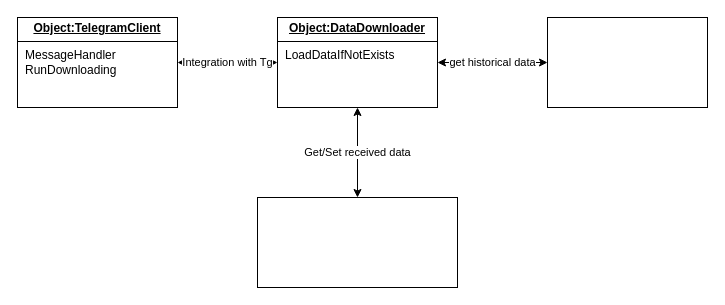
This 725x305 diagram has some shape labels left out. Here are the shapes that lost their labels. From the top down, the box of each, then its label:
(546, 16, 708, 108): Object:ByBitClient GetKline
(256, 196, 458, 288): Object:HistoricalDataRepository IsDataExists SaveHistoricalData
